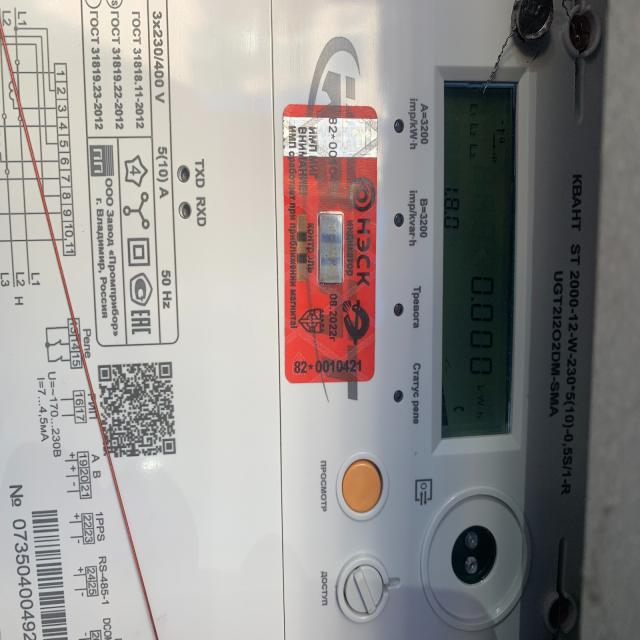Display: (431, 71, 521, 446)
Meter_kvant: (0, 0, 640, 640)
meter_number: (2, 467, 74, 640)
seal_imp: (282, 100, 378, 388)
